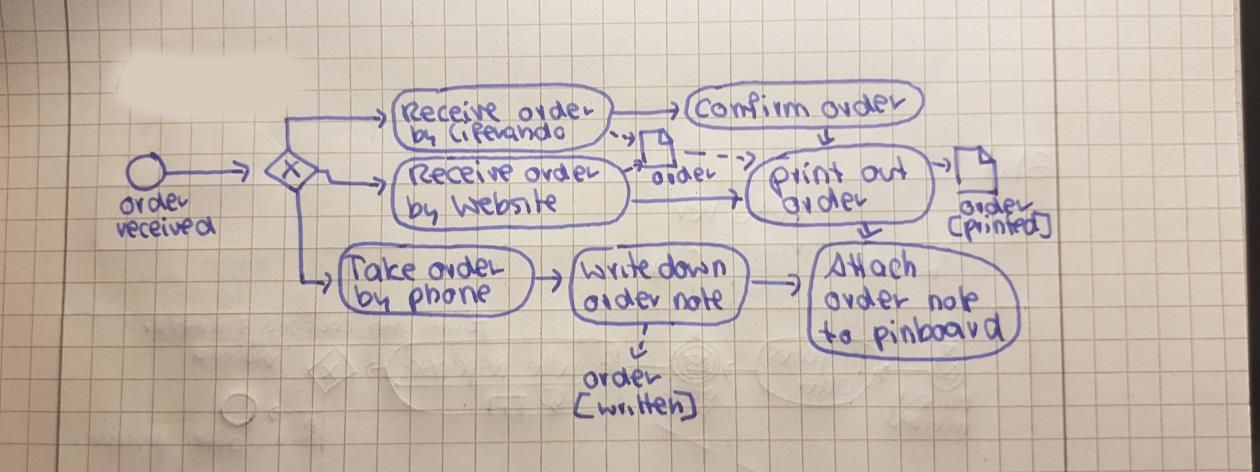Attach: (821, 249, 924, 281)
Liferando: (445, 121, 571, 144)
Receive: (406, 157, 515, 189), (396, 99, 502, 125)
Take: (343, 252, 421, 285)
[printed]: (947, 211, 1057, 243)
[written]: (572, 390, 699, 422)
by: (351, 281, 399, 315), (404, 193, 445, 227), (406, 123, 442, 151)
confirm: (693, 93, 816, 123)
down: (655, 251, 731, 282)
note: (925, 284, 983, 313), (669, 285, 726, 313)
order: (779, 185, 874, 219), (818, 90, 911, 121), (822, 283, 914, 314), (426, 251, 509, 283), (582, 286, 669, 315), (580, 365, 668, 392), (523, 160, 606, 188), (116, 189, 193, 218), (514, 101, 601, 126), (956, 193, 1039, 217), (648, 163, 720, 187)
out: (858, 155, 910, 185)
phone: (404, 281, 494, 315)
pinboard: (868, 308, 1006, 355)
print: (767, 157, 850, 196)
received: (112, 214, 221, 242)
to: (816, 319, 859, 348)
website: (447, 183, 563, 221)
write: (579, 250, 657, 284)
